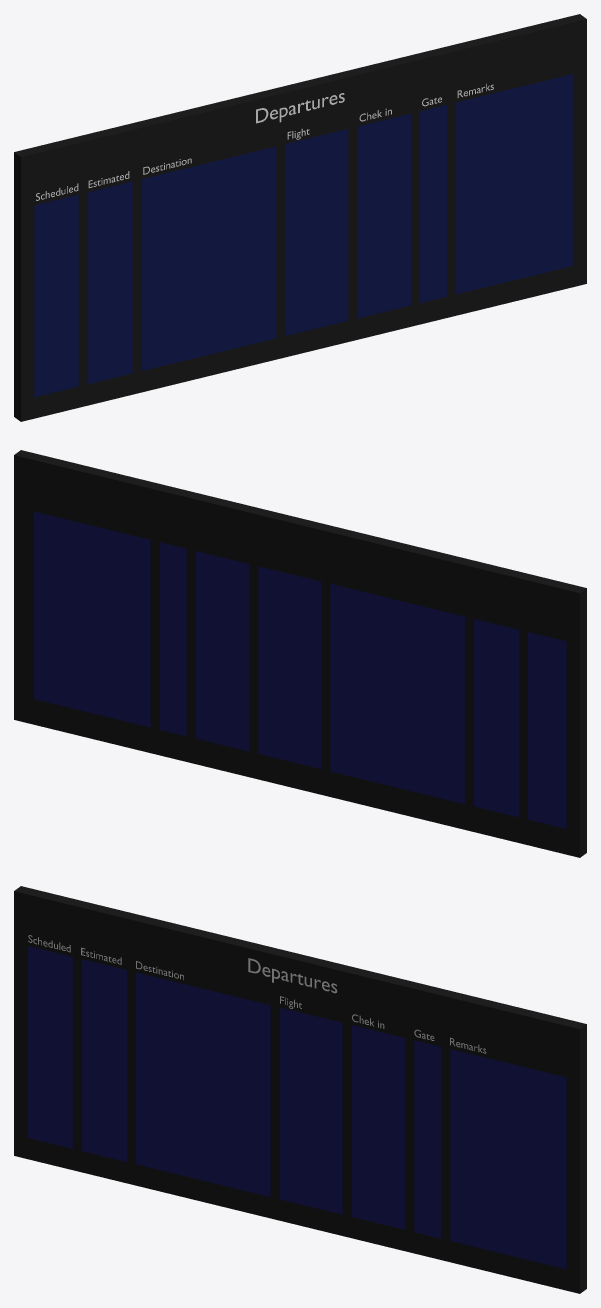
Rendered from flight_info_display.glb.
3 renders of one model, top to bottom at view 1: azimuth 30°, elevation 25°; view 2: azimuth 150°, elevation 25°; view 3: azimuth 330°, elevation 25°, orthographic.
Visible parts, largest first — view 1: Body, Line7, Line1, Line5, Line6, Line8, Line2, Line3, Line4, Line0, Line9, Text; view 2: Body, Line7, Line4, Line5, Line6, Line9, Line2, Line1, Line3, Line8, Line0; view 3: Body, Line7, Line1, Line5, Line6, Line8, Line2, Line3, Line4, Line0, Line9, Text.
Part boxes in pixels (x1,y1,x2,y2): Body: (14,14,586,421); Line7: (34,209,572,359); Line1: (34,93,572,243); Line5: (34,170,572,320); Line6: (34,189,572,340); Line8: (34,228,572,379); Line2: (34,112,572,262); Line3: (34,131,572,282); Line4: (34,151,572,301); Line0: (34,74,572,223); Line9: (34,248,572,397); Text: (256,93,344,123); Body: (14,450,586,857); Line7: (34,641,566,790); Line4: (34,583,566,731); Line5: (34,602,566,751); Line6: (34,621,566,770); Line9: (34,680,566,828); Line2: (34,544,566,693); Line1: (34,524,566,673); Line3: (34,563,566,712); Line8: (34,660,566,809); Line0: (34,511,566,654); Body: (14,886,586,1293); Line7: (28,1081,566,1231); Line1: (28,965,566,1115); Line5: (28,1042,566,1192); Line6: (28,1061,566,1212); Line8: (28,1100,566,1251); Line2: (28,984,566,1134); Line3: (28,1003,566,1154); Line4: (28,1023,566,1173); Line0: (28,946,566,1095); Line9: (28,1120,566,1269); Text: (248,958,337,993).
Bounding box in the file's own units: 5.67 × 2.54 × 0.1266.
